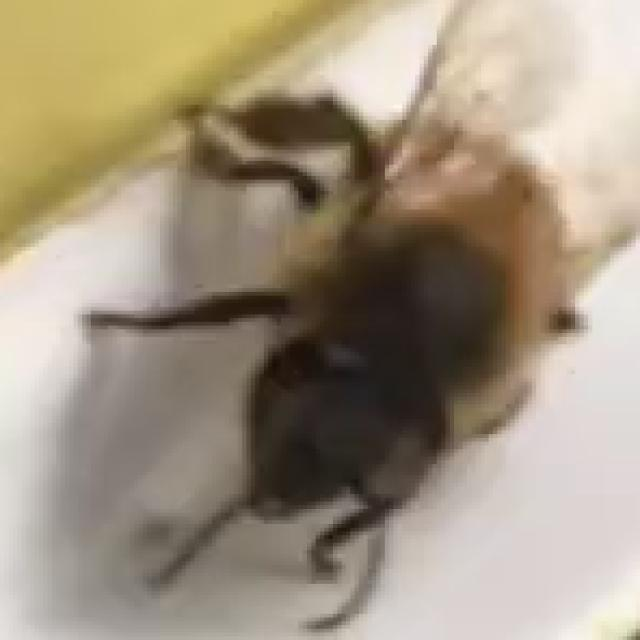honeybee: (155, 41, 640, 640)
